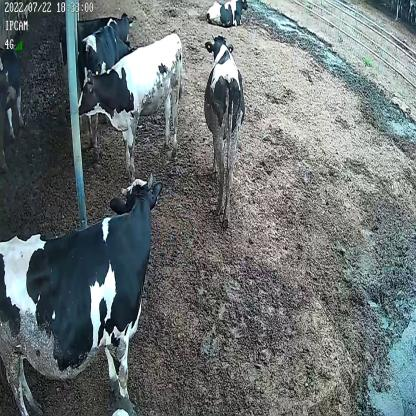cow: (0, 170, 165, 415), (77, 31, 184, 183), (203, 32, 247, 234), (78, 22, 136, 74), (204, 0, 250, 25)
